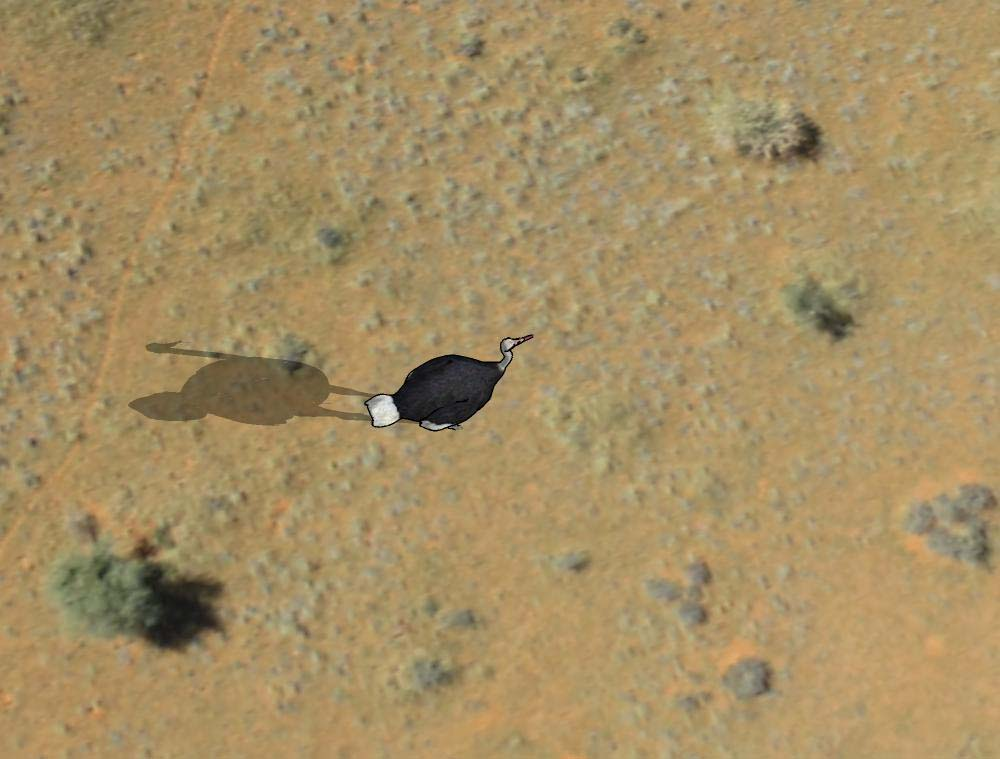ostrich: (361, 331, 535, 435)
